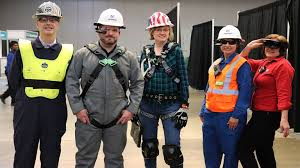Person_wearing_helmet: (91, 8, 124, 31), (30, 1, 63, 22), (144, 11, 174, 33), (215, 23, 243, 45)
